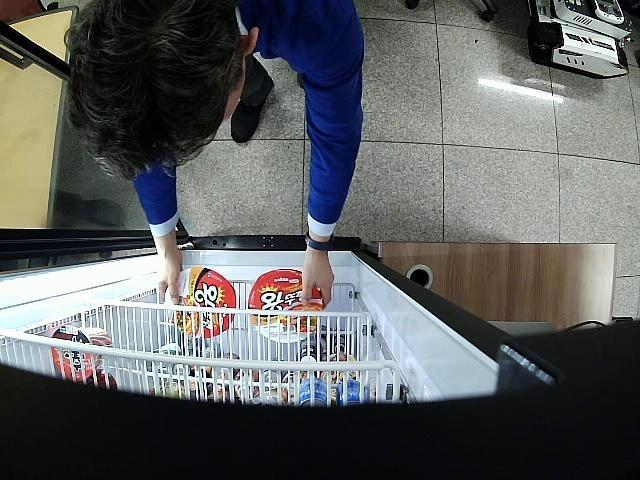10_wangTtukkeong: (248, 268, 321, 343), (164, 266, 237, 340)
